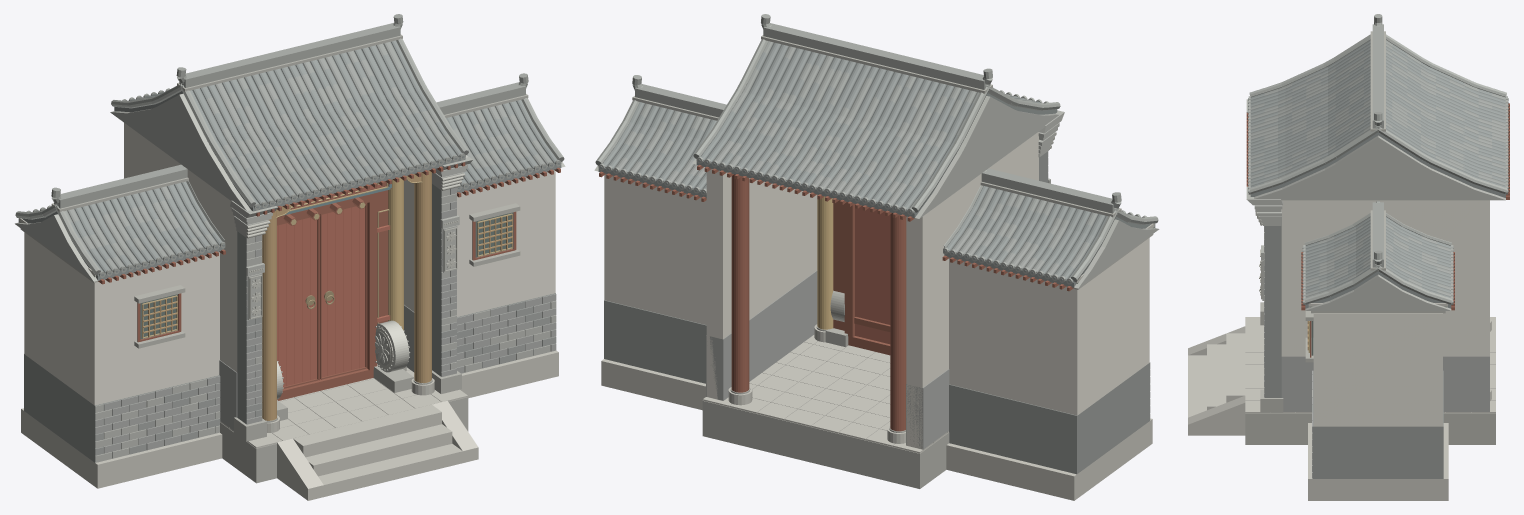
The model's file is Jinzhu_Gate.glb.
3 views of the same model, side by side, from view 1: azimuth 30°, elevation 25°; view 2: azimuth 150°, elevation 25°; view 3: azimuth 270°, elevation 25° (orthographic). The views are drawn at different scales.
Parts seen in each view (by area): view 1: Jinzhu Gate; view 2: Jinzhu Gate; view 3: Jinzhu Gate.
Part boxes in pixels (x1,y1,x2,y2): Jinzhu Gate: (15,14,565,500); Jinzhu Gate: (594,14,1159,500); Jinzhu Gate: (1188,14,1509,500).
Bounding box in the file's own units: 6.64 × 4.84 × 4.23.
